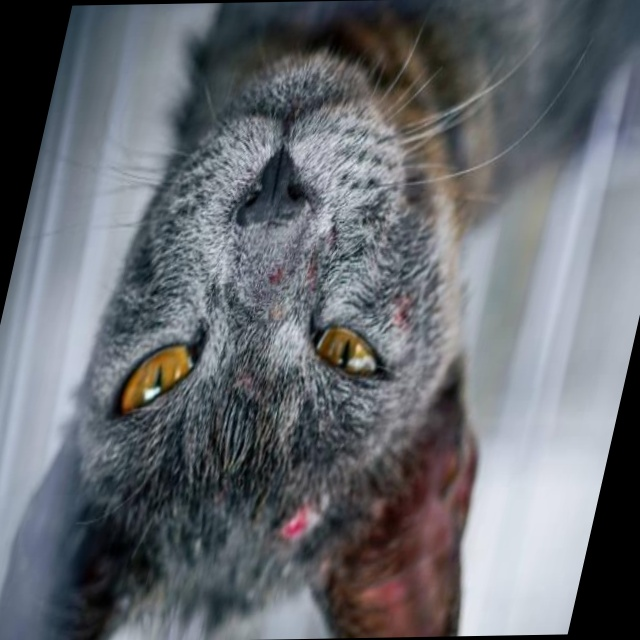ringworm: (261, 259, 322, 292), (276, 510, 312, 536), (389, 293, 411, 327)
